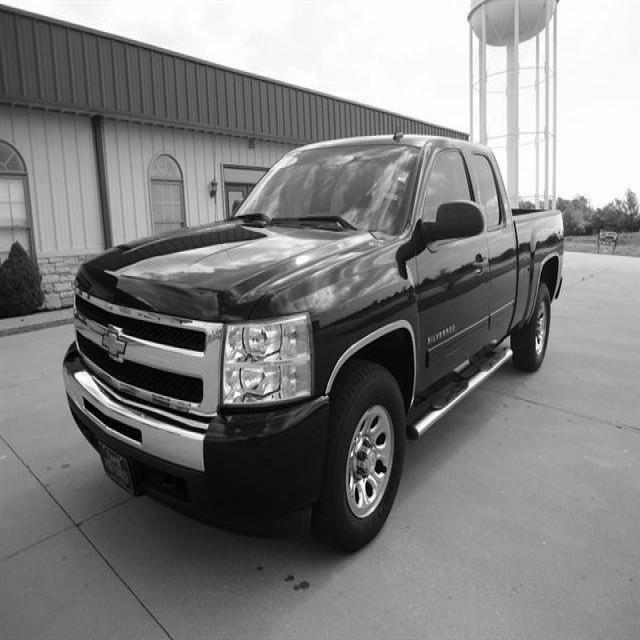car: (61, 130, 564, 554)
